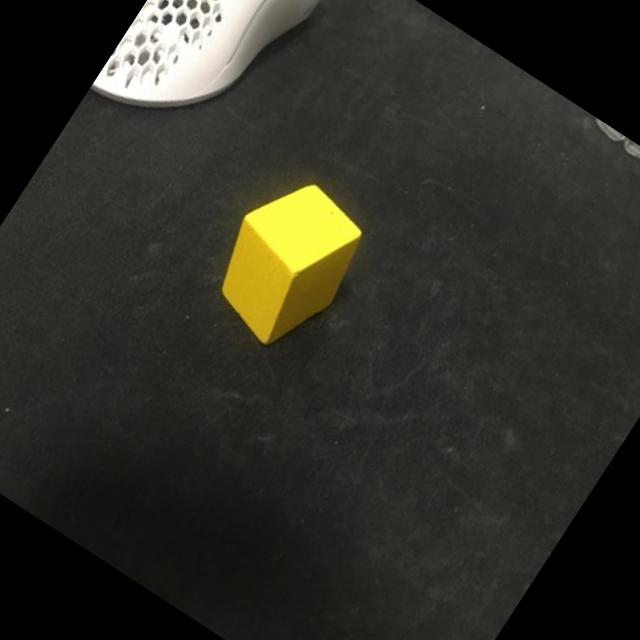yellow: (190, 161, 382, 365)
